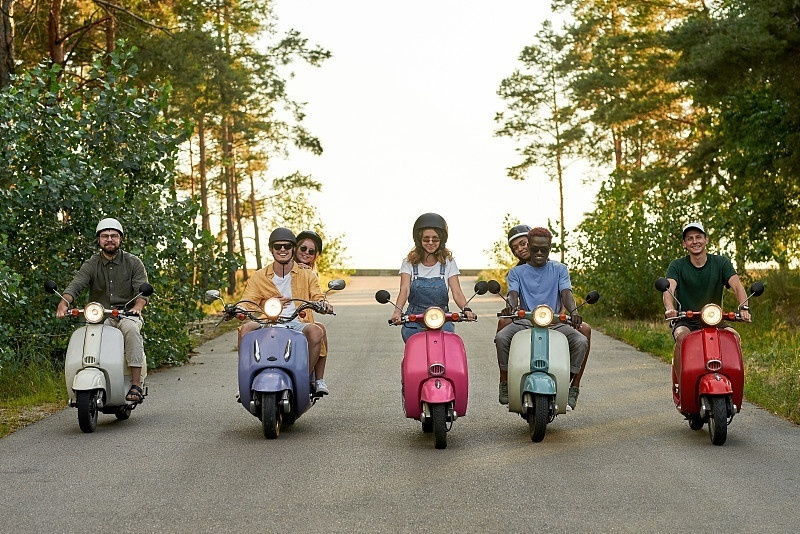non-vehicle: (220, 282, 333, 439), (55, 284, 147, 431), (498, 284, 584, 440), (666, 288, 750, 446), (393, 295, 473, 441)
